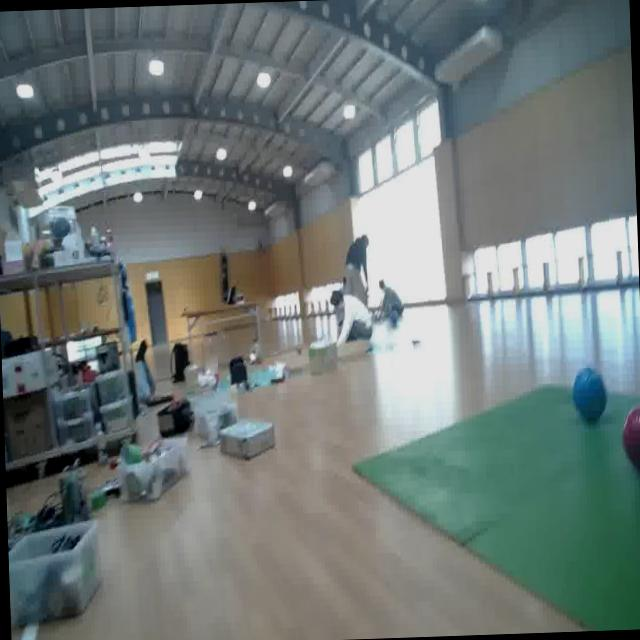blue_ball: (574, 356, 612, 423)
red_ball: (625, 408, 640, 481)
